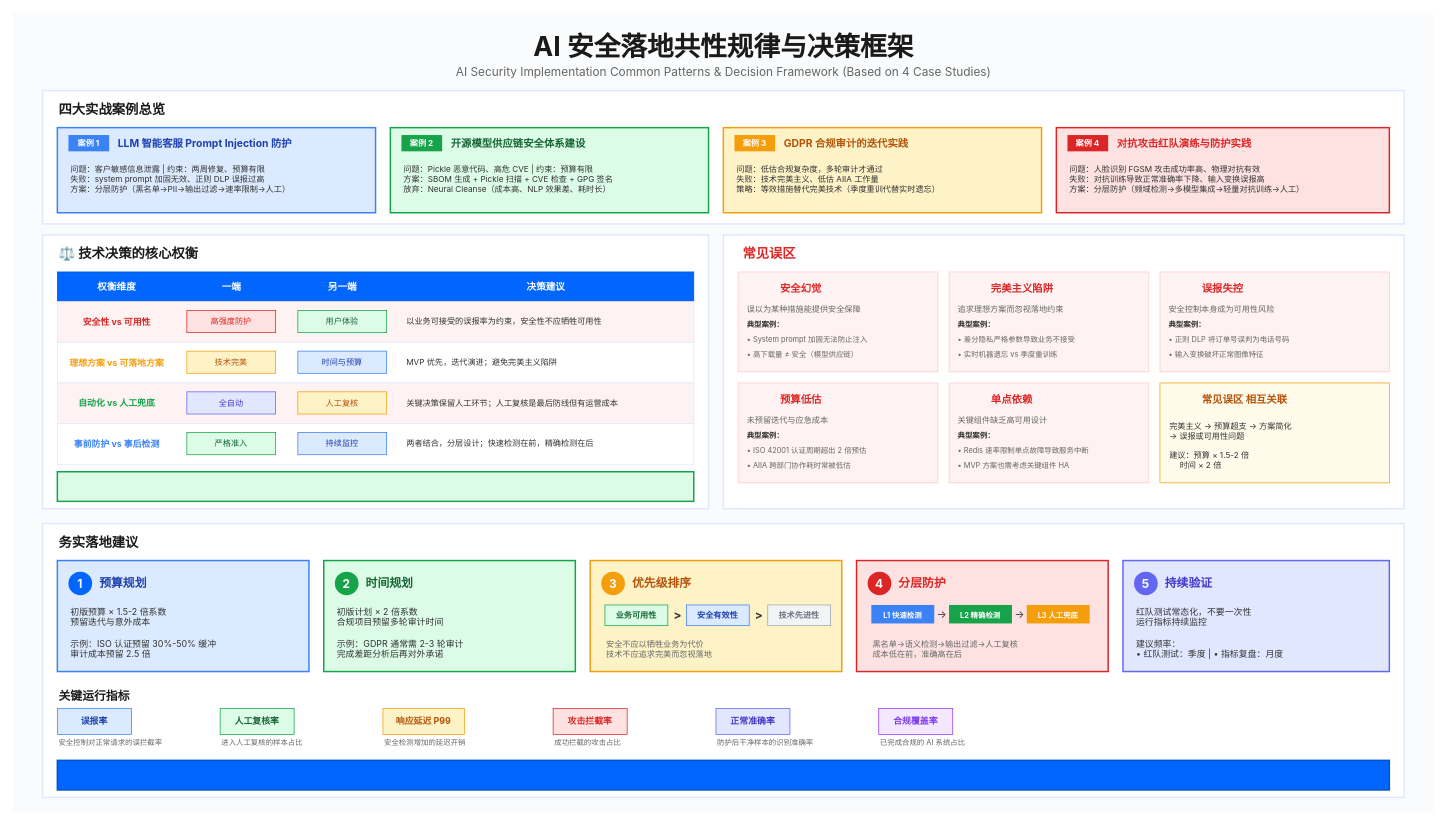
Some shapes in this 1446 by 824 pixel diagram are drawn without their labels. The centre of each missing label's shape, as x and y in pixels:
"核心原则：业务可用性优先于安全有效性，安全有效性优先于技术先进性" belongs at point 375,486.
"核心认知：完美防御不存在 | 业务约束优先于技术理想 | 红队测试的价值在于内部发现问题 | 合规不是一次性工程而是动态投资过程" belongs at point 723,774.
